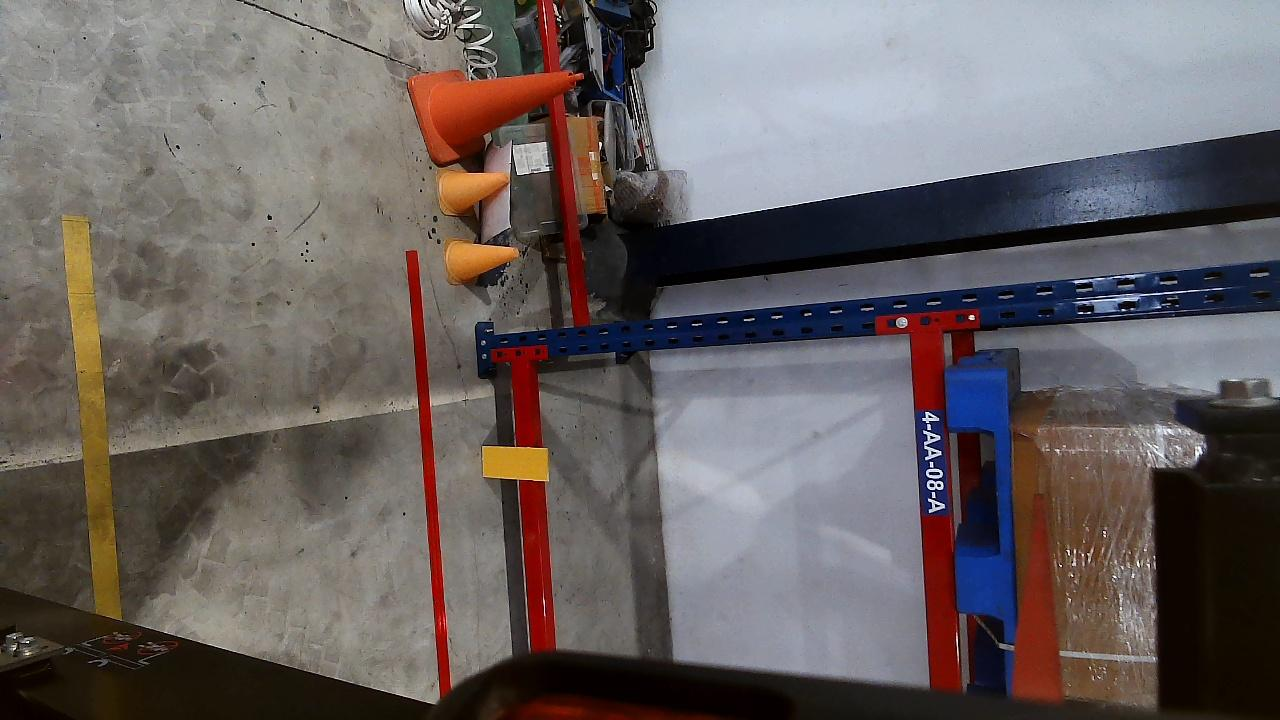h_rack: (908, 326, 962, 687), (507, 359, 554, 650)
orange_strip: (481, 446, 548, 480)
red_line: (407, 250, 451, 685)
small_pallet: (947, 369, 1011, 693)
yellow_line: (60, 214, 118, 618)
